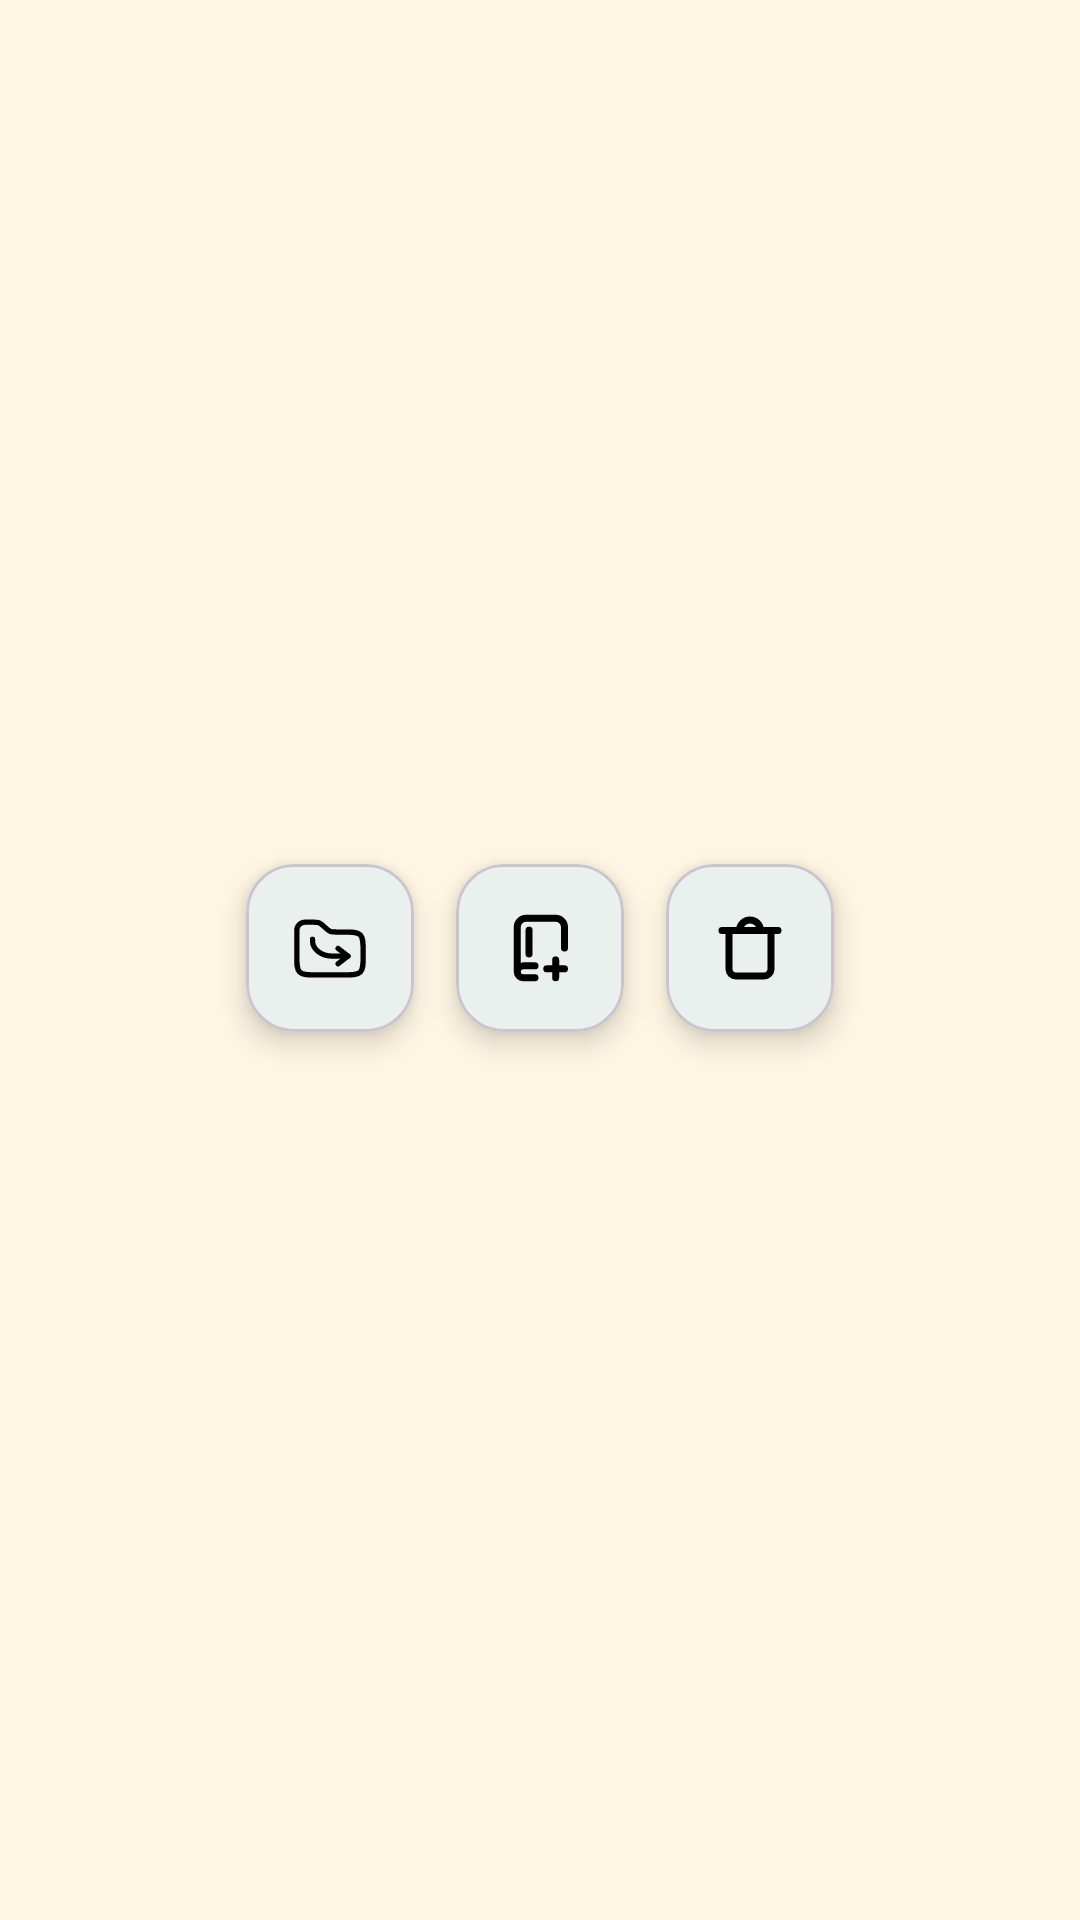

Named icons in this screenshot (1080px×1920px) and their bounding boxes, [x1=x1, y1=y1, x2=x2, y2=y2]:
add: [x1=513, y1=914, x2=568, y2=982]
delete: [x1=718, y1=916, x2=782, y2=980]
move: [x1=294, y1=919, x2=366, y2=978]
